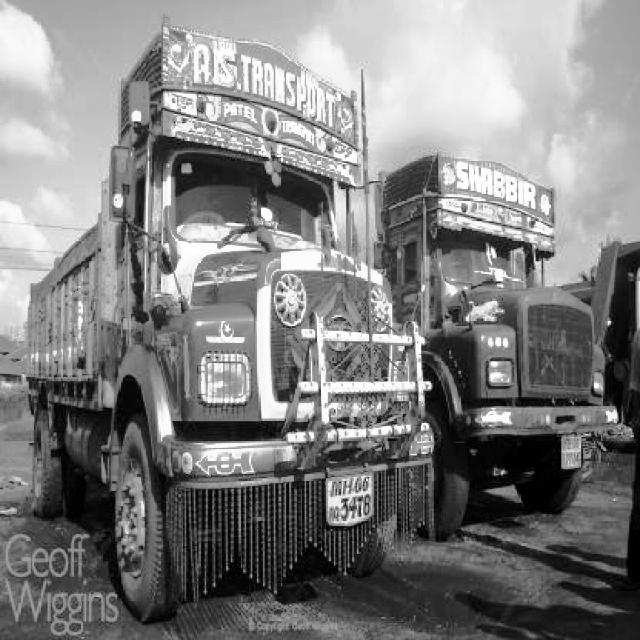HCV: (12, 94, 392, 615), (376, 116, 612, 548)
